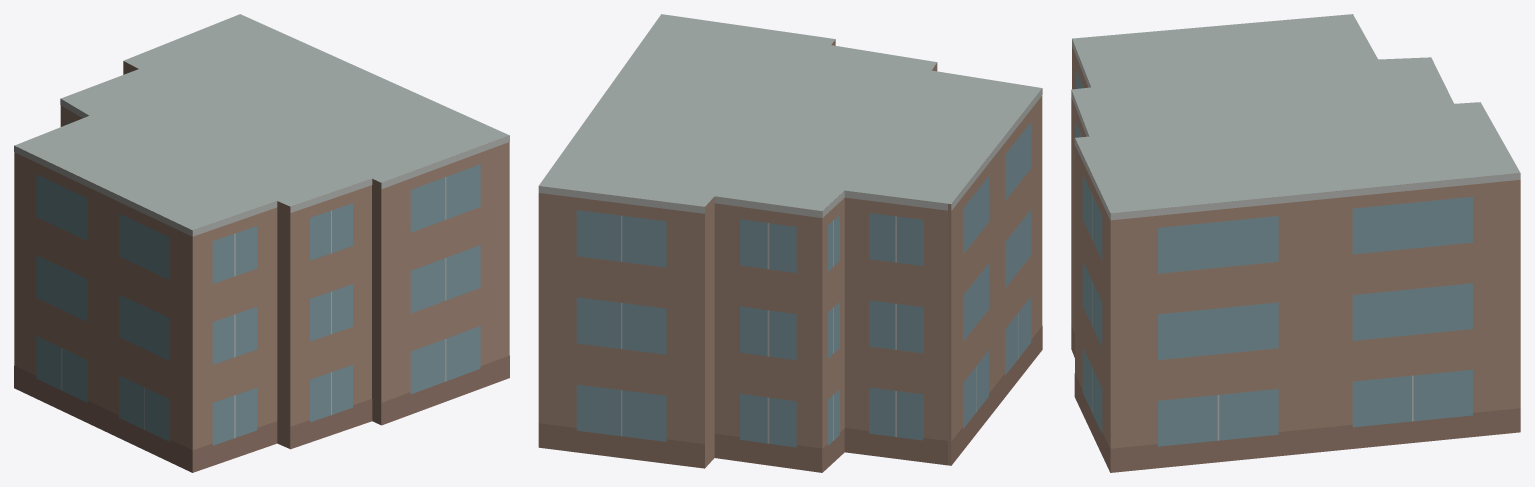
File: survey-upis-32772681.glb
3 views of the same model, side by side, from view 1: azimuth 30°, elevation 25°; view 2: azimuth 150°, elevation 25°; view 3: azimuth 270°, elevation 25° (orthographic). The views are drawn at different scales.
Parts seen in each view (by area): view 1: survey-upis-32772681.tmp; view 2: survey-upis-32772681.tmp; view 3: survey-upis-32772681.tmp.
Boxes of the visible parts, x1,y1,x2,y2 form: survey-upis-32772681.tmp: [14, 14, 509, 472]; survey-upis-32772681.tmp: [538, 14, 1042, 472]; survey-upis-32772681.tmp: [1071, 14, 1520, 472].
Size of the model in its own units: 15.1 by 9.15 by 14.37.
